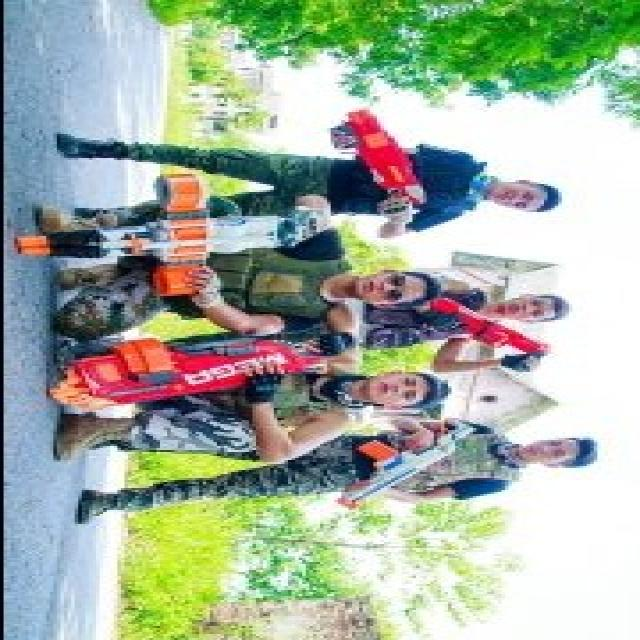Nerf gun: (3, 169, 330, 303), (38, 329, 340, 411), (331, 415, 487, 513), (325, 102, 443, 218), (405, 289, 569, 367)
